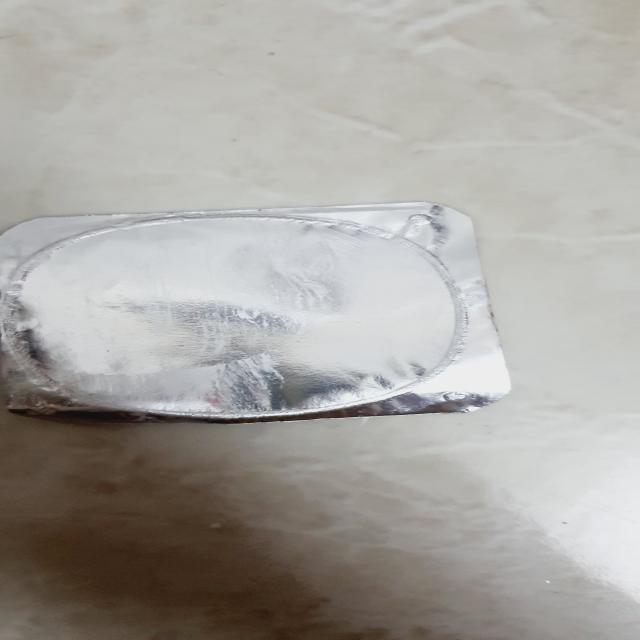Metal: (2, 201, 513, 423)
